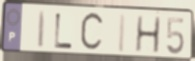5: (165, 16, 185, 56)
C: (78, 10, 106, 54)
H: (134, 15, 162, 55)
I: (116, 12, 128, 55), (37, 9, 48, 50)
L: (53, 12, 75, 51)
